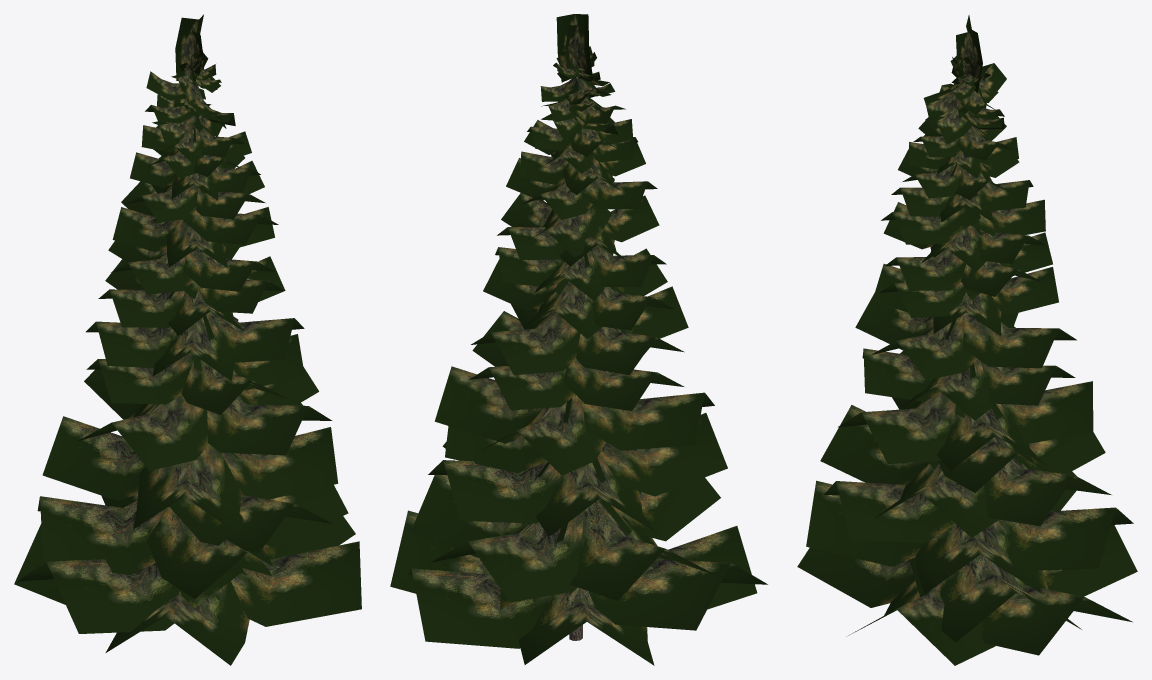
Rendered from mw_pine_01.FBX.
3 renders of one model, left to right at view 1: azimuth 30°, elevation 25°; view 2: azimuth 150°, elevation 25°; view 3: azimuth 270°, elevation 25°, orthographic. The views are drawn at different scales.
Visible parts, largest first — view 1: mw_pine_01; view 2: mw_pine_01; view 3: mw_pine_01.
Boxes of the visible parts, x1,y1,x2,y2 form: mw_pine_01: [14, 14, 361, 665]; mw_pine_01: [390, 14, 767, 665]; mw_pine_01: [797, 15, 1137, 665].
Size of the model in its own units: 705 by 1351 by 682.
